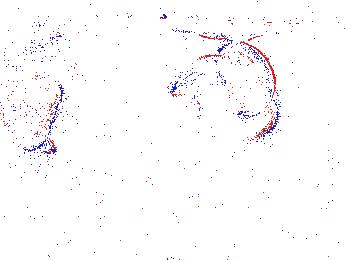moon jellyfish: (1, 32, 69, 117), (197, 81, 279, 150), (2, 73, 64, 152), (218, 41, 275, 117), (1, 52, 80, 99)
